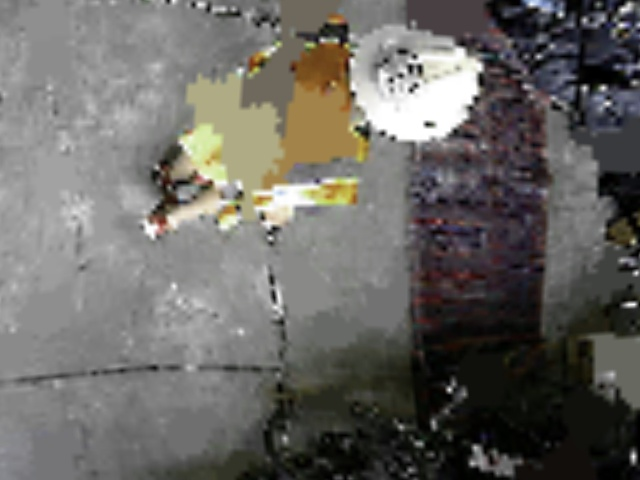three: (378, 51, 421, 93)
